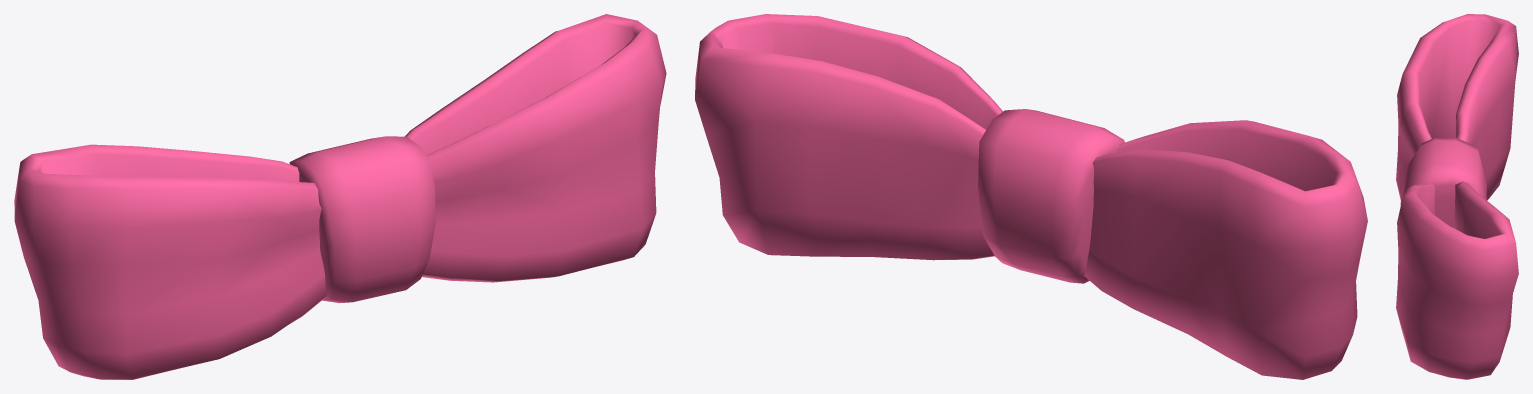
Rendered from Cake_items_Bow-A.FBX.
The picture shows the model from 3 angles, left to right: view 1: azimuth 30°, elevation 25°; view 2: azimuth 150°, elevation 25°; view 3: azimuth 270°, elevation 25°; orthographic projection. The views are drawn at different scales.
Visible parts, largest first — view 1: Cake_items_Bow-A; view 2: Cake_items_Bow-A; view 3: Cake_items_Bow-A.
Boxes of the visible parts, x1,y1,x2,y2 form: Cake_items_Bow-A: (14,14,666,379); Cake_items_Bow-A: (695,14,1367,379); Cake_items_Bow-A: (1396,14,1518,379).
Bounding box in the file's own units: 4459 × 1369 × 982.
